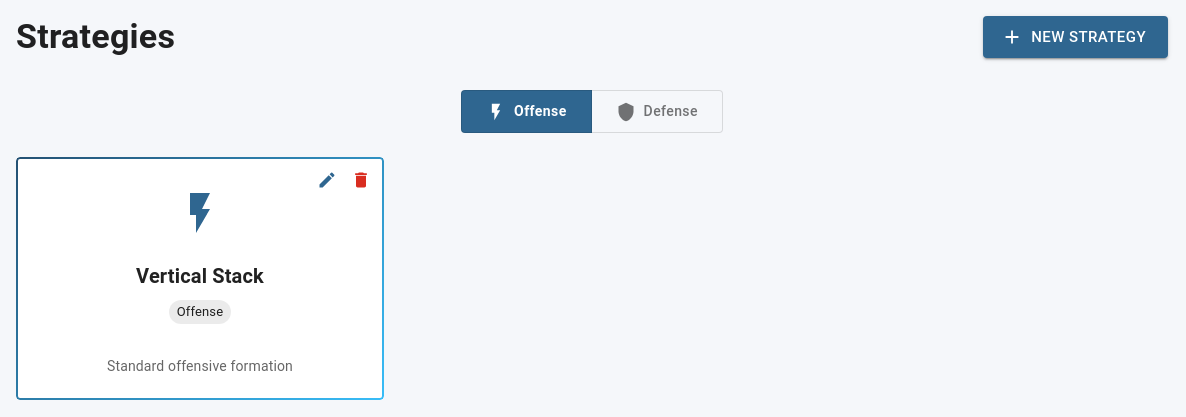
Test: StrategiesPage › filters strategies by defense category
Expected: the heading "Vertical Stack" is shown, [136,264,264,288]
Note: Click defense filter
Click the button with aria-label "defense strategies". click: [657, 112]
box: [591,90,723,133]
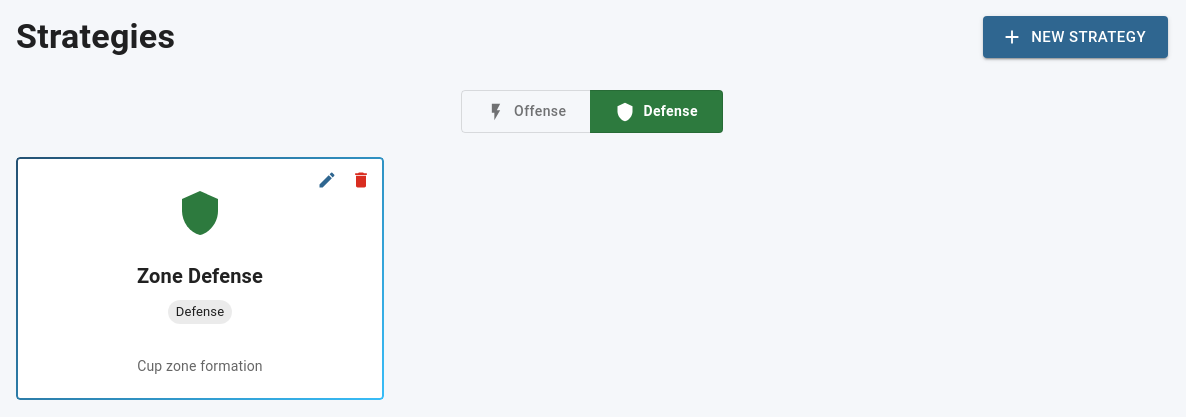
Now the heading "Vertical Stack" is gone
Now the heading "Zone Defense" is shown, box [137,264,263,288]
